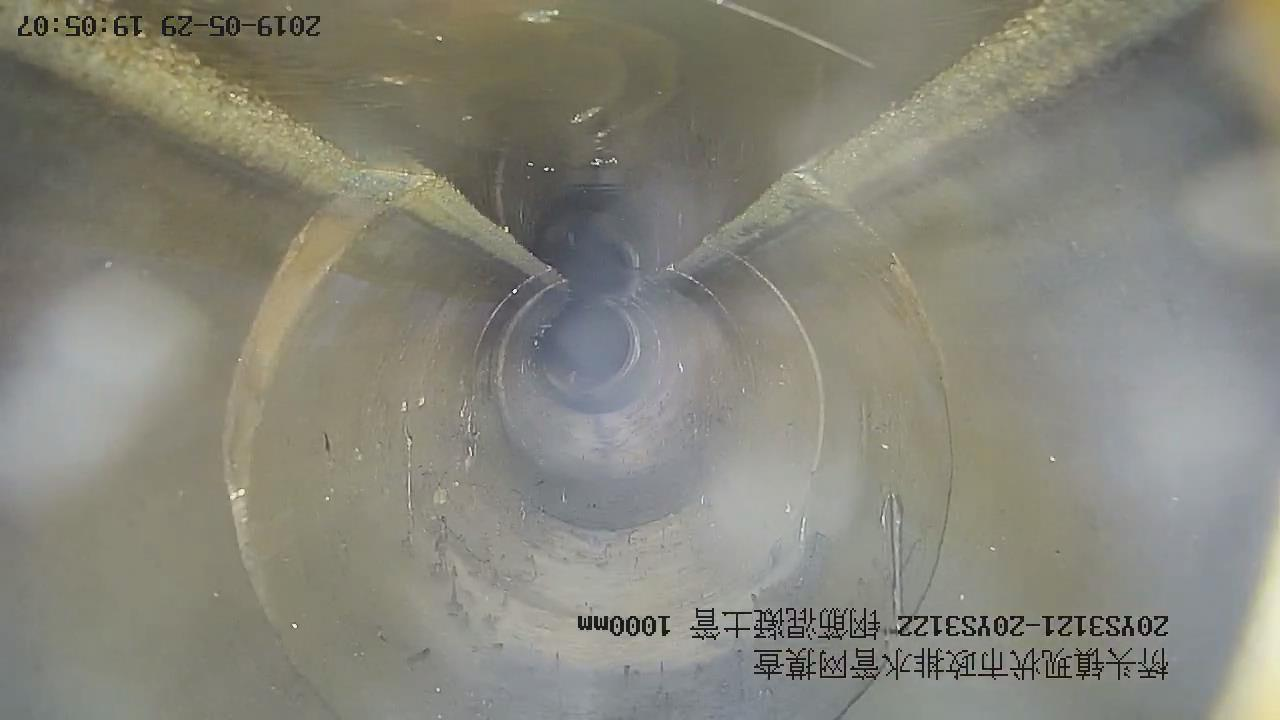CKTJ: (223, 167, 423, 627)
